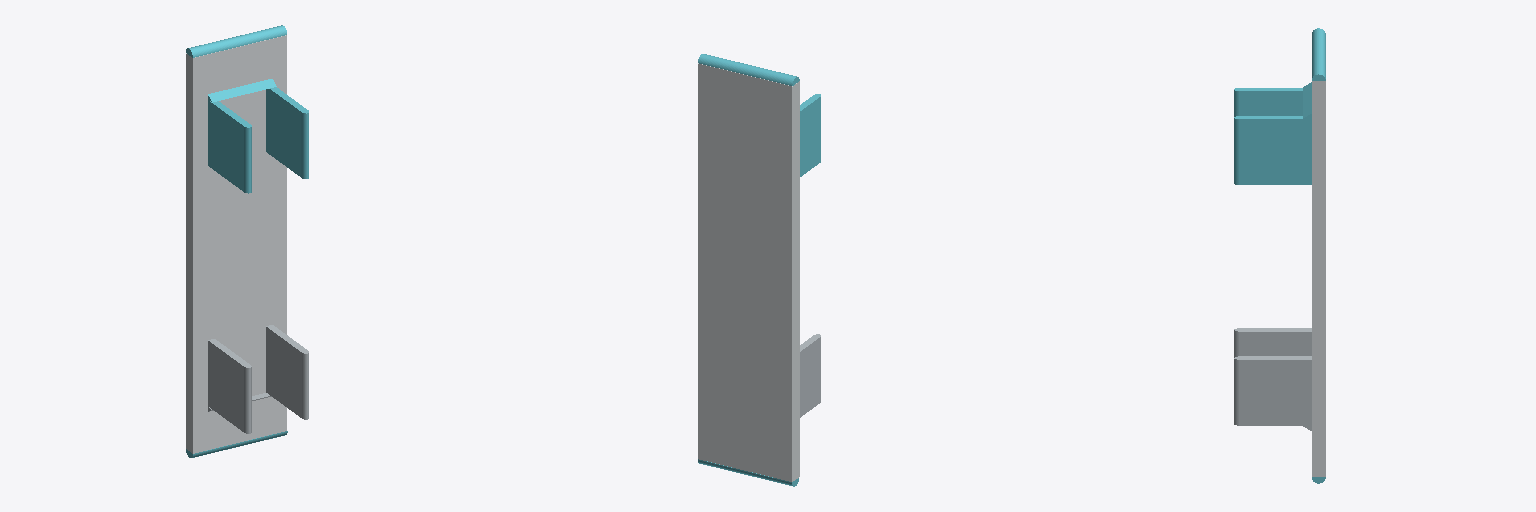
The model's file is Seagate External XBox Hard drive stand.obj.
3 views of the same model, side by side, from view 1: azimuth 30°, elevation 25°; view 2: azimuth 150°, elevation 25°; view 3: azimuth 270°, elevation 25° (orthographic).
Visible parts, largest first — view 1: obj_0; view 2: obj_0; view 3: obj_0.
Part boxes in pixels (bbox=[...]): obj_0: bbox=[186, 25, 308, 457]; obj_0: bbox=[698, 54, 820, 486]; obj_0: bbox=[1234, 28, 1325, 483].
Bounding box in the file's own units: 38.2 × 158 × 32.